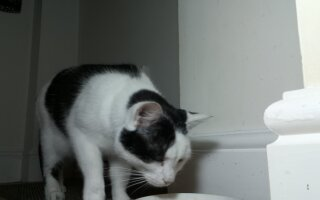bad: (28, 59, 211, 200)
